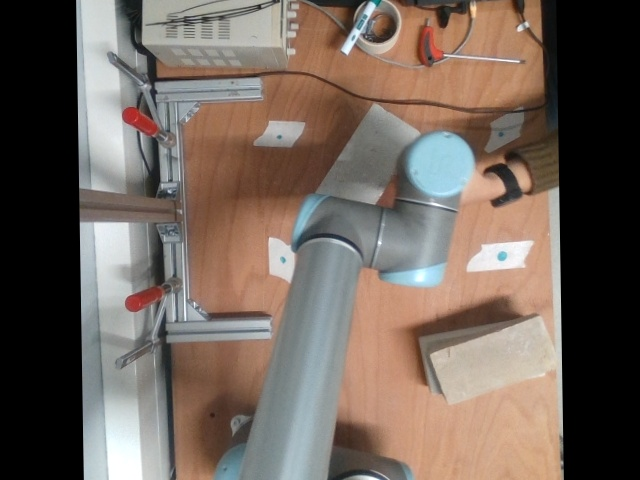brick: (433, 316, 558, 400)
